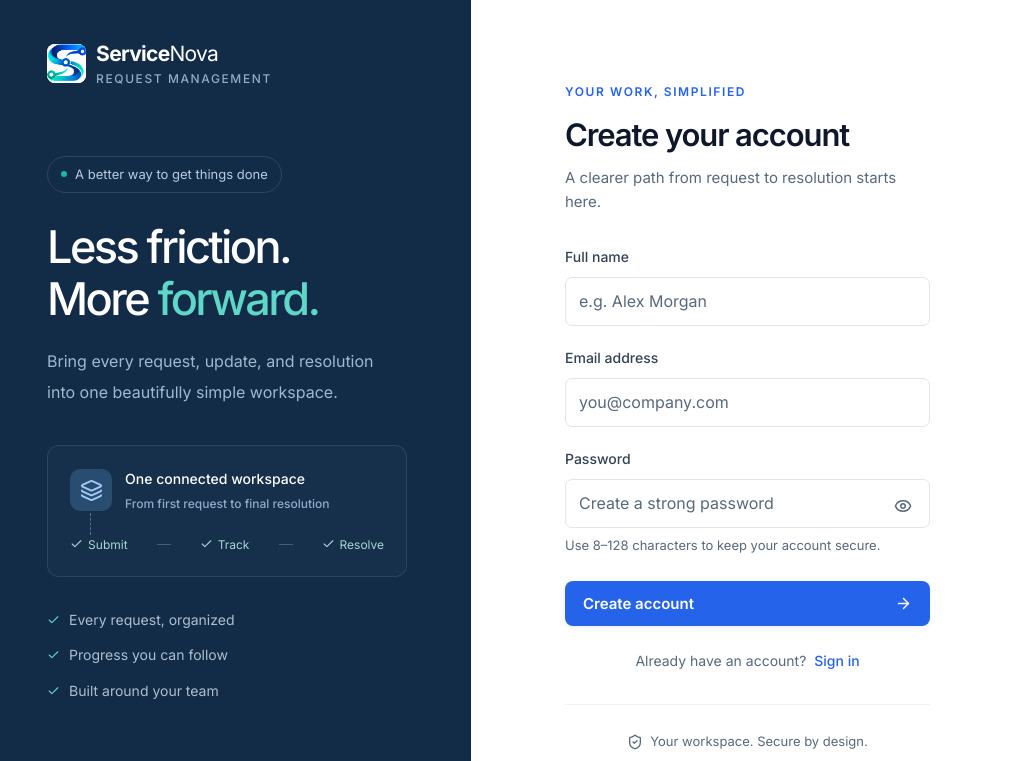
Test case: authentication forms › requires a display name when registering
In the field labelled "Email address": (748, 402) [565, 378, 930, 427], type "alex@example.com"
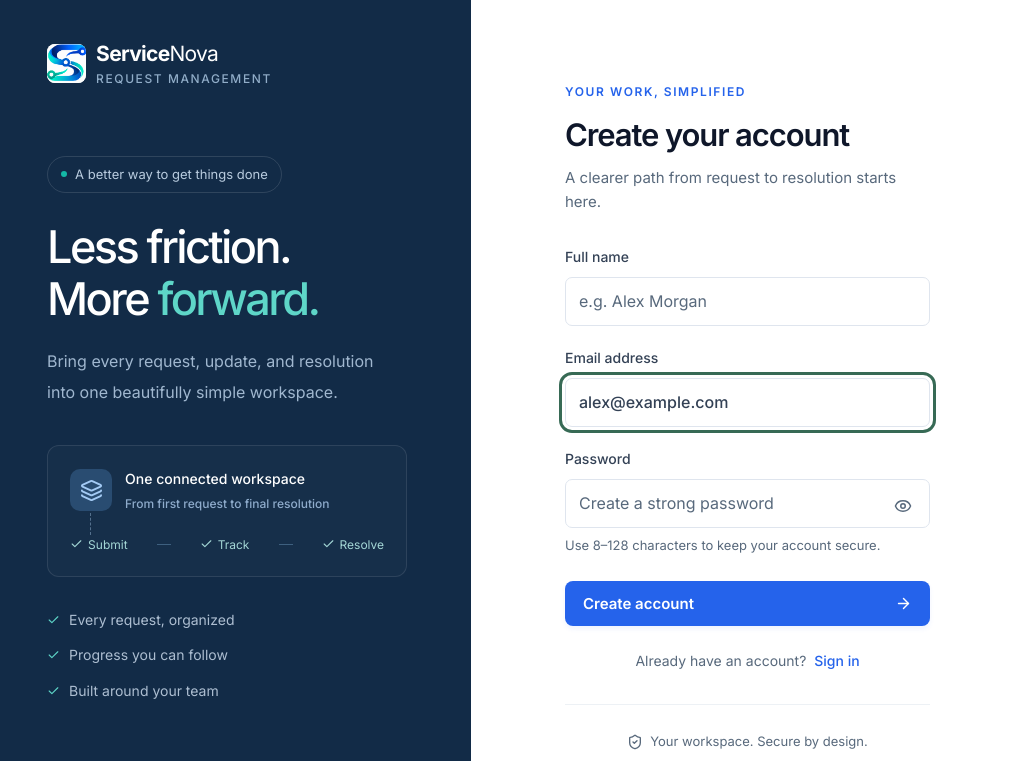
In the password field labelled "Password": (748, 504) [565, 479, 930, 528], type "test-password"
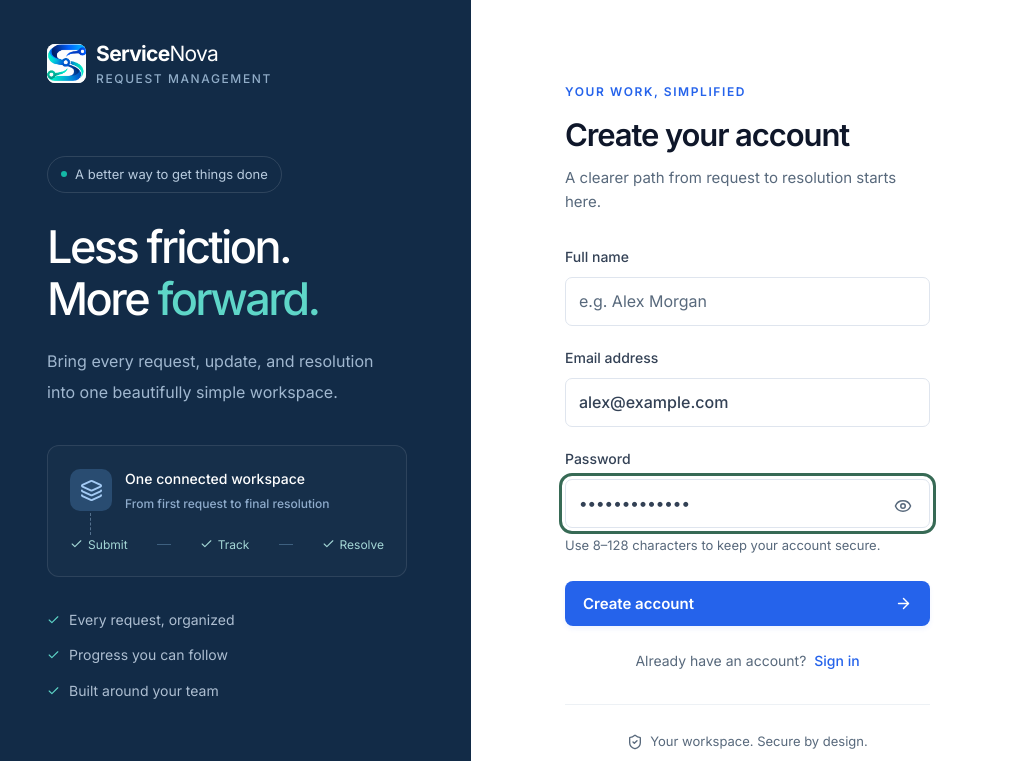
Click the button "Create account": (638, 604) [565, 581, 930, 626]
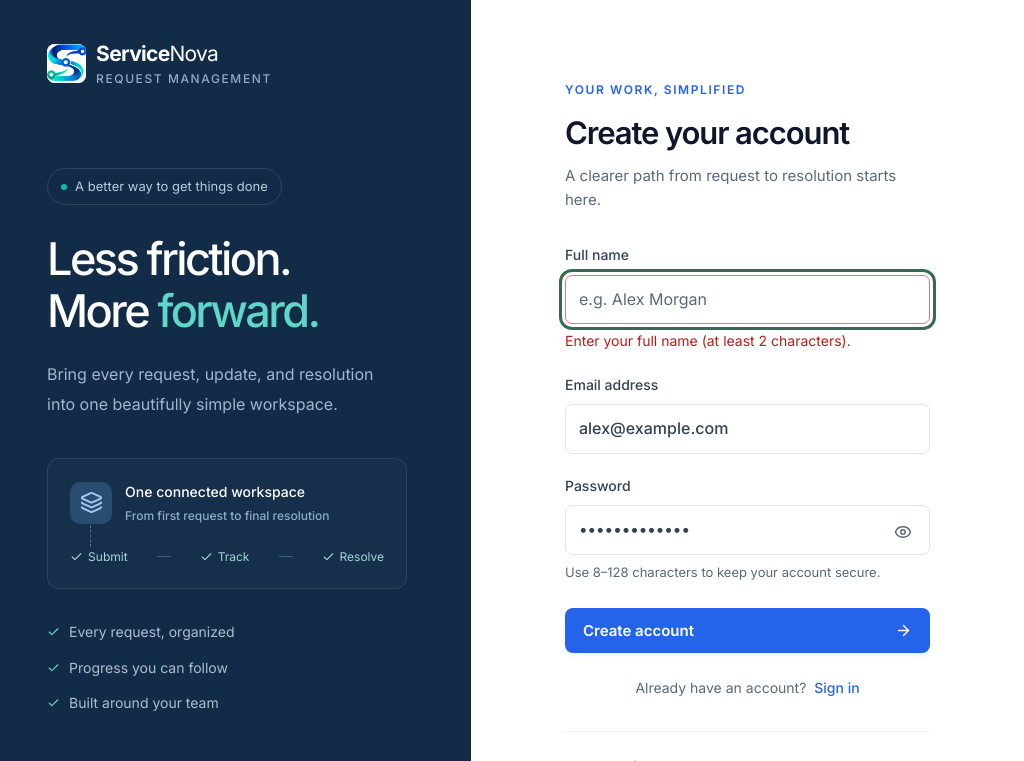
Now the text "Enter your full name (at least 2 characters)." is shown, box [565, 332, 851, 350]
